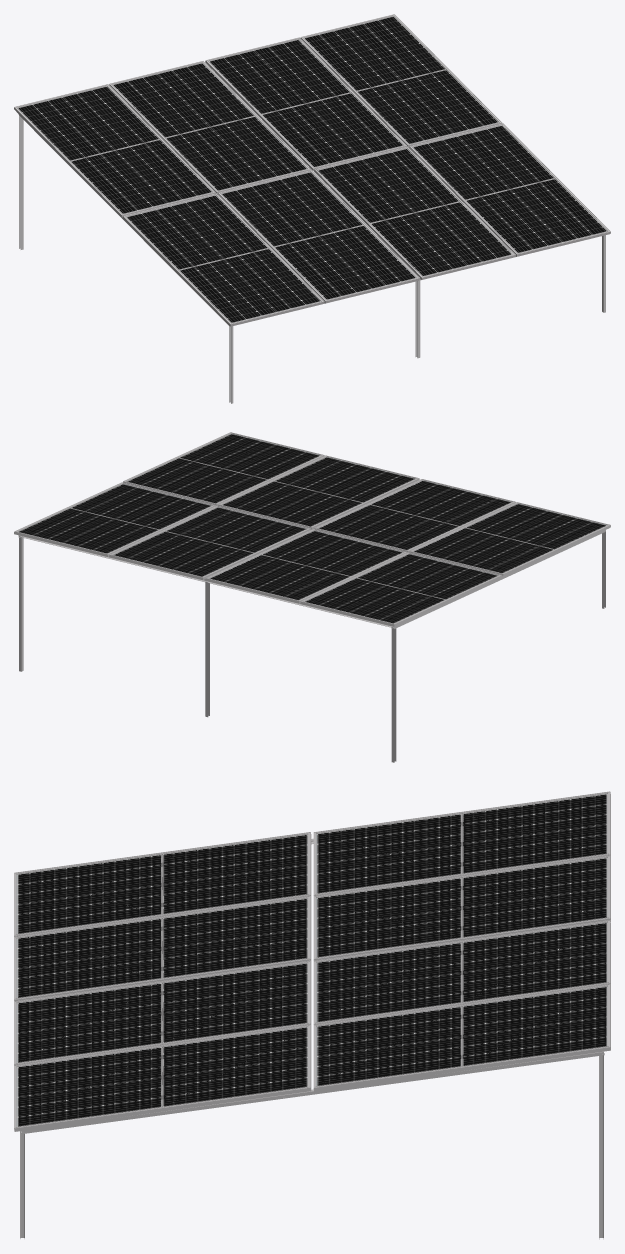
3 renders of one model, top to bottom at view 1: azimuth 30°, elevation 25°; view 2: azimuth 150°, elevation 25°; view 3: azimuth 270°, elevation 25°, orthographic. The views are drawn at different scales.
Parts seen in each view (by area): view 1: 4KW SOLARPANEL; view 2: 4KW SOLARPANEL; view 3: 4KW SOLARPANEL.
Boxes of the visible parts, x1,y1,x2,y2 form: 4KW SOLARPANEL: (14, 14, 610, 403); 4KW SOLARPANEL: (14, 432, 610, 762); 4KW SOLARPANEL: (14, 791, 610, 1239).
Size of the model in its own units: 4.6 by 1.63 by 4.53.
Materials: 1 (1 with a texture image).
